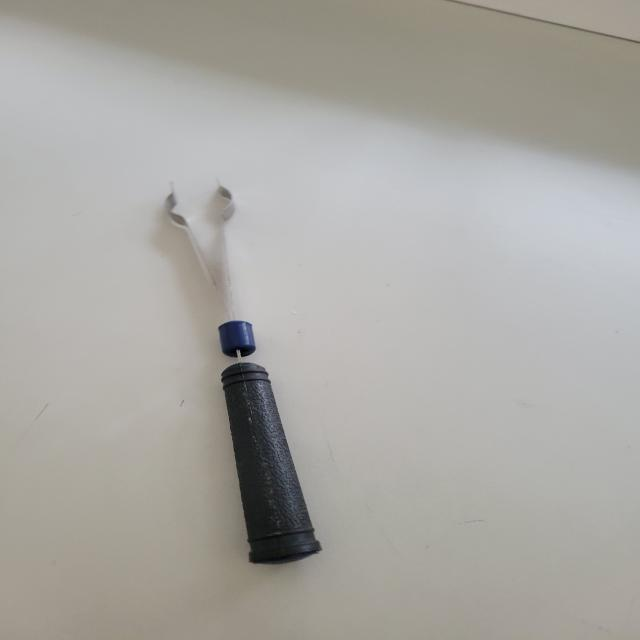TestTube_Holder: (115, 168, 382, 594)
